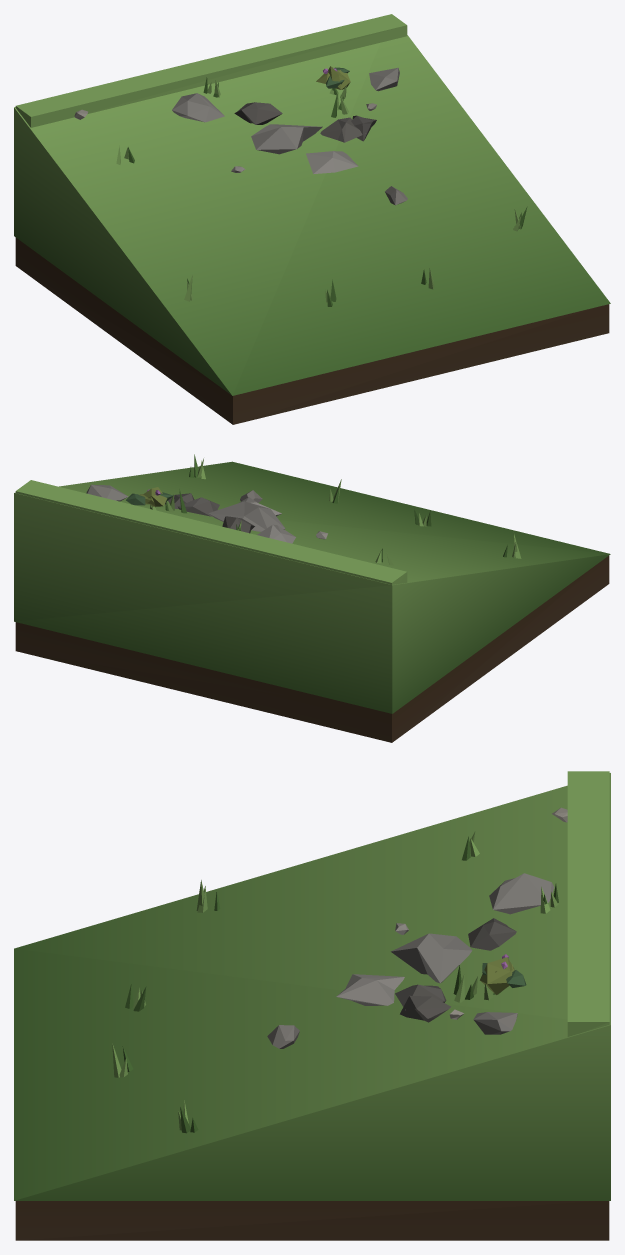
The model's file is ground-slope-tile.glb.
3 views of the same model, one above another, from view 1: azimuth 30°, elevation 25°; view 2: azimuth 150°, elevation 25°; view 3: azimuth 270°, elevation 25° (orthographic). The views are drawn at different scales.
Parts seen in each view (by area): view 1: ground_slope_tile; view 2: ground_slope_tile; view 3: ground_slope_tile.
Part boxes in pixels (left/top/right/bottom): ground_slope_tile: left=14, top=14, right=610, bottom=424; ground_slope_tile: left=14, top=454, right=610, bottom=742; ground_slope_tile: left=14, top=771, right=610, bottom=1240.
Bounding box in the file's own units: 4 × 1.64 × 4.
